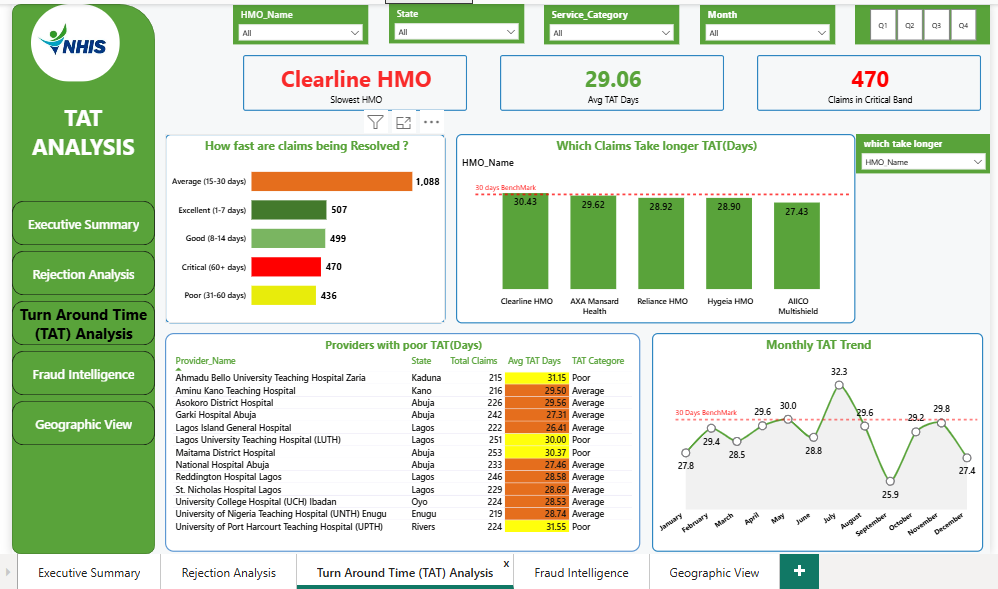

This screenshot's page, from the dashboard's own definition file:
{"tool":"powerbi","page":{"name":"Turn Around Time (TAT) Analysis","canvas":[1664,935],"ordinal":3},"visuals":[{"type":"shape","box":[0,0,243.1,935],"z":0},{"type":"slicer","fields":{"Values":["Claims.State"]},"box":[640.5,0,230,67.3],"z":0,"group":"g1"},{"type":"slicer","fields":{"Values":["Claims.HMO_Name"]},"box":[375.9,1.9,230,67.3],"z":1000,"group":"g1"},{"type":"cardVisual","fields":{"Data":["Table of measure.Claims in Critical Band"]},"box":[1248.8,69.2,415.1,129],"z":1000},{"type":"slicer","fields":{"Values":["Claims.Service_Category"]},"box":[905.1,1.9,230,67.3],"z":2000,"group":"g1"},{"type":"slicer","fields":{"Values":["datetable.Date.Variation.Date Hierarchy.Month"]},"box":[1169.7,1.9,230,67],"z":3000,"group":"g1"},{"type":"slicer","fields":{"Values":["which take longer.which take longer"]},"box":[1434.3,220.7,230,67.3],"z":3000},{"type":"slicer","fields":{"Values":["datetable.Quarter"]},"box":[1434,1.9,230,67.3],"z":4000,"group":"g1"},{"type":"cardVisual","fields":{"Data":["Table of measure.Avg TAT Days"]},"box":[812.4,69.2,415.1,129],"z":4000},{"type":"cardVisual","fields":{"Data":["Min(Claims.HMO_Name)"]},"box":[375.9,69.2,415.1,129],"z":5000},{"type":"clusteredBarChart","title":"How fast are claims being Resolved ?","fields":{"Y":["Table of measure.Total Claims"],"Category":["Claims.TAT_Category"]},"box":[259.9,220.7,476.8,321.6],"z":6000},{"type":"image","box":[31.7,0,151.2,132.5],"z":7000},{"type":"clusteredColumnChart","title":"Which Claims Take longer TAT(Days)","fields":{"Category":["Claims.HMO_Name"],"Y":["Table of measure.Avg TAT Days"]},"box":[755.5,220.7,678.8,321.6],"z":8000},{"type":"tableEx","title":"Providers with poor TAT(Days)","fields":{"Values":["Claims.Provider_Name","Claims.State","Table of measure.Total Claims","Table of measure.Avg TAT Days","Table of measure.TAT Categore"]},"box":[259.9,559.1,807.8,372.1],"z":9000},{"type":"group","id":"g1","title":"Group 1","box":[375.9,0,1288.1,69.2],"z":10000},{"type":"textbox","box":[11.2,162.7,218.8,115.9],"z":11000},{"type":"areaChart","title":"Monthly TAT Trend","fields":{"Category":["datetable.Date.Variation.Date Hierarchy.Month"],"Y":["Table of measure.Avg TAT Days"]},"box":[1088.3,559.1,562.9,372.1],"z":12000},{"type":"pageNavigator","box":[0,334.7,243.1,415.1],"z":13000}]}

Visuals, with their boxes on the page's 1664x935 design canvas (x1, y1, x2, y2). These are canvas units, not pixel positions in the 998x589 screenshot, which may show the page scaled, cropped or inside an application window:
shape: bbox=(0, 0, 243, 935)
slicer - Claims.State: bbox=(640, 0, 870, 67)
slicer - Claims.HMO_Name: bbox=(376, 2, 606, 69)
cardVisual - Table of measure.Claims in Critical Band: bbox=(1249, 69, 1664, 198)
slicer - Claims.Service_Category: bbox=(905, 2, 1135, 69)
slicer - datetable.Date.Variation.Date Hierarchy.Month: bbox=(1170, 2, 1400, 69)
slicer - which take longer.which take longer: bbox=(1434, 221, 1664, 288)
slicer - datetable.Quarter: bbox=(1434, 2, 1664, 69)
cardVisual - Table of measure.Avg TAT Days: bbox=(812, 69, 1228, 198)
cardVisual - Min(Claims.HMO_Name): bbox=(376, 69, 791, 198)
"How fast are claims being Resolved ?" clusteredBarChart: bbox=(260, 221, 737, 542)
image: bbox=(32, 0, 183, 132)
"Which Claims Take longer TAT(Days)" clusteredColumnChart: bbox=(756, 221, 1434, 542)
"Providers with poor TAT(Days)" tableEx: bbox=(260, 559, 1068, 931)
"Group 1" group: bbox=(376, 0, 1664, 69)
textbox: bbox=(11, 163, 230, 279)
"Monthly TAT Trend" areaChart: bbox=(1088, 559, 1651, 931)
pageNavigator: bbox=(0, 335, 243, 750)
